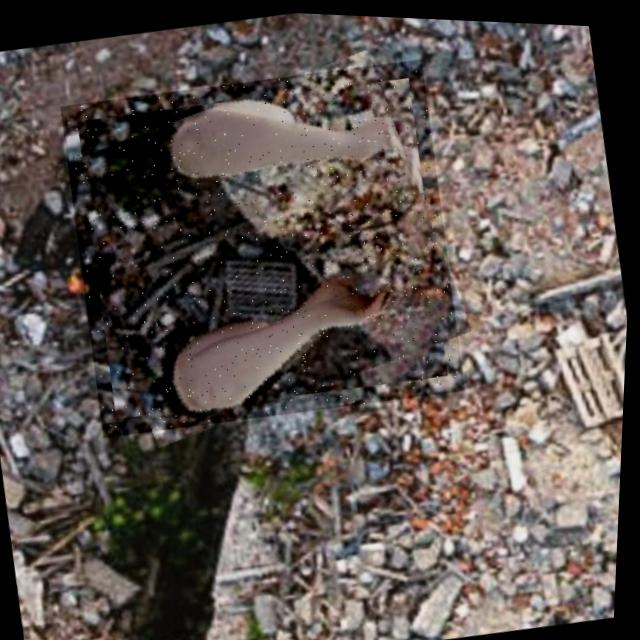Person in Rubble: (48, 42, 478, 449)
